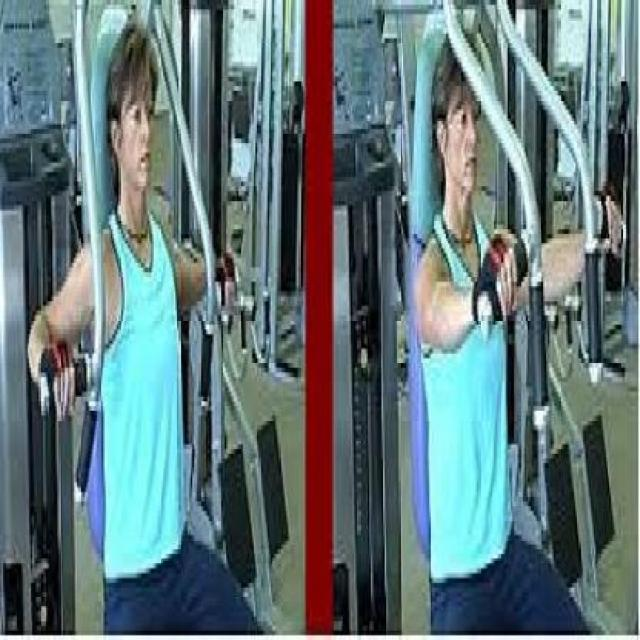Chest Press machine: (0, 0, 272, 640), (384, 0, 628, 640)
